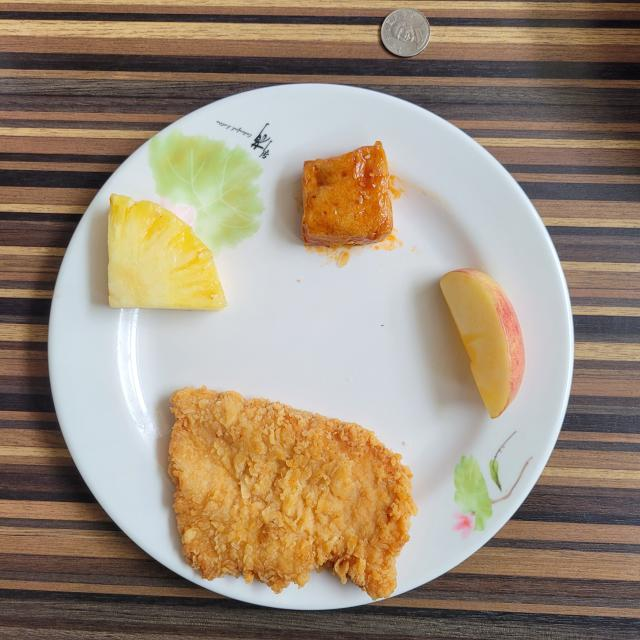apple -sliced-: (440, 269, 525, 418)
coin: (381, 8, 430, 58)
creamy tofu: (302, 141, 392, 246)
fried chicken cutlet: (169, 386, 416, 599)
pineapple: (108, 194, 226, 310)
